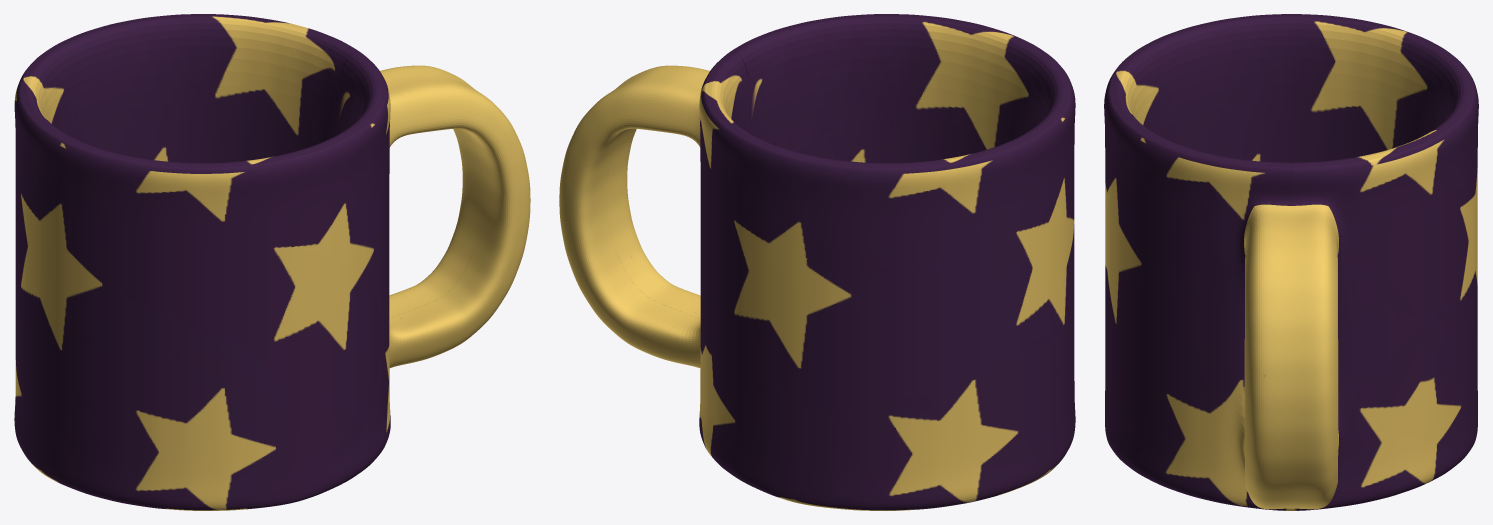
The model's file is Mug.fbx.
3 views of the same model, side by side, from view 1: azimuth 30°, elevation 25°; view 2: azimuth 150°, elevation 25°; view 3: azimuth 270°, elevation 25° (orthographic).
Visible parts, largest first — view 1: Cylinder; view 2: Cylinder; view 3: Cylinder.
Boxes of the visible parts, <box> form: Cylinder: <box>14,14,530,510</box>; Cylinder: <box>559,14,1075,510</box>; Cylinder: <box>1104,14,1478,510</box>.
Size of the model in its own units: 382 by 265 by 262.
1 material, 1 textured.
